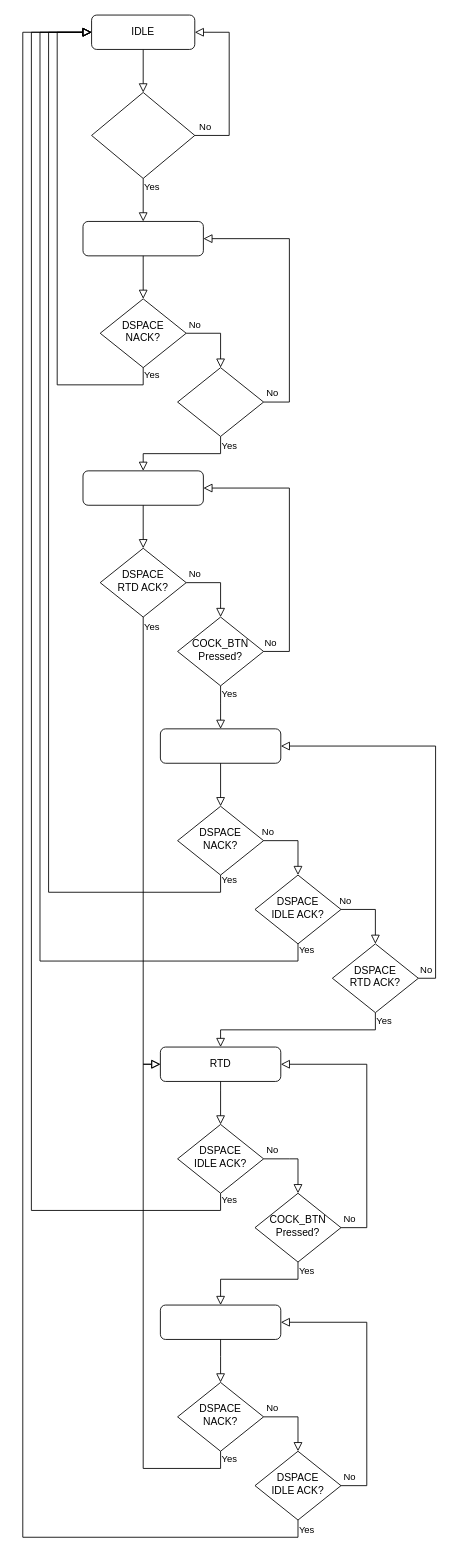
Image size: 459x1561. Some labels were removed from this diagram. Each missing label, with the centre of its shape:
"COCK/EXT_BTN Pressed?" goes at point 143,135.
"CTOR_EN_WAIT_ACK" goes at point 142,238.
"DSPACE TS_ON ACK?" goes at point 220,401.
"IDLE_WAIT_ACK" goes at point 220,1321.
"RTD_WAIT_ACK" goes at point 220,745.
"TS_ON" goes at point 142,487.
